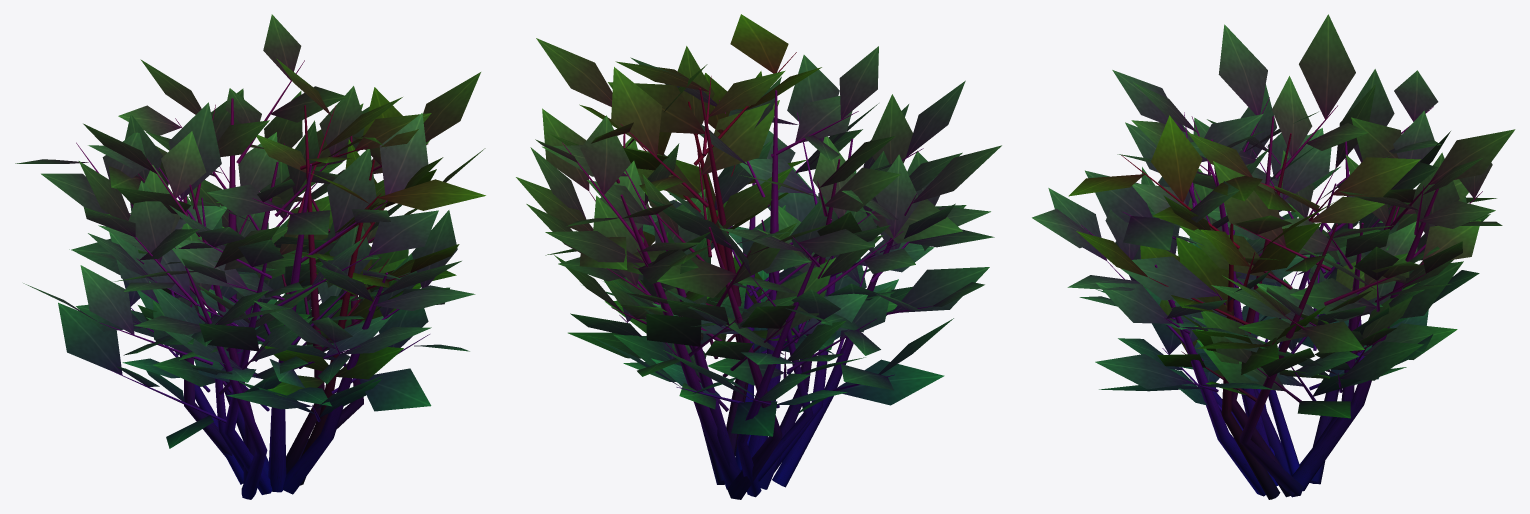
Rendered from laurel_lod1.glb.
3 renders of one model, left to right at view 1: azimuth 30°, elevation 25°; view 2: azimuth 150°, elevation 25°; view 3: azimuth 270°, elevation 25°, orthographic. The views are drawn at different scales.
Visible parts, largest first — view 1: laurel_lod1; view 2: laurel_lod1; view 3: laurel_lod1.
Part boxes in pixels (x1=…): laurel_lod1: x1=15, y1=14, x2=485, y2=499; laurel_lod1: x1=516, y1=14, x2=1001, y2=499; laurel_lod1: x1=1032, y1=14, x2=1515, y2=499.
Bounding box in the file's own units: 2.16 × 1.81 × 2.01.
Materials: 2 (2 with a texture image).
